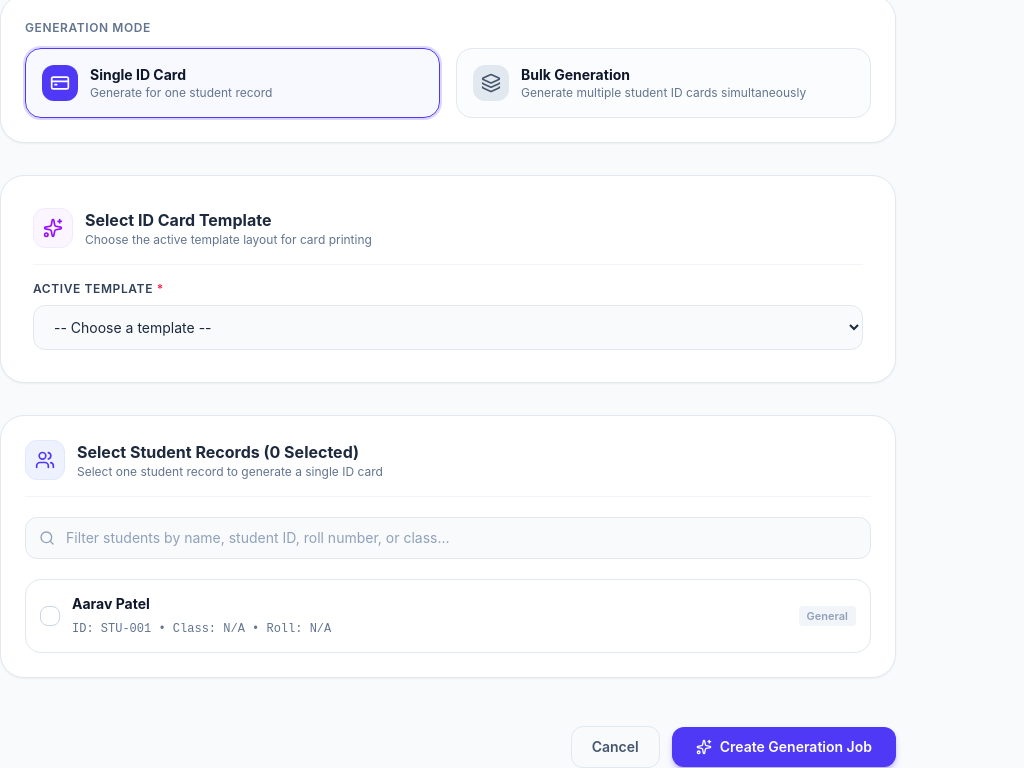
Test: ID CARD GENERATION UI COMPONENTS › 4. GenerationCreateForm validates template and student selection
This screenshot has width=1024, height=768.
Click the button "Create Generation Job".
click(784, 747)  # box [672, 727, 896, 767]
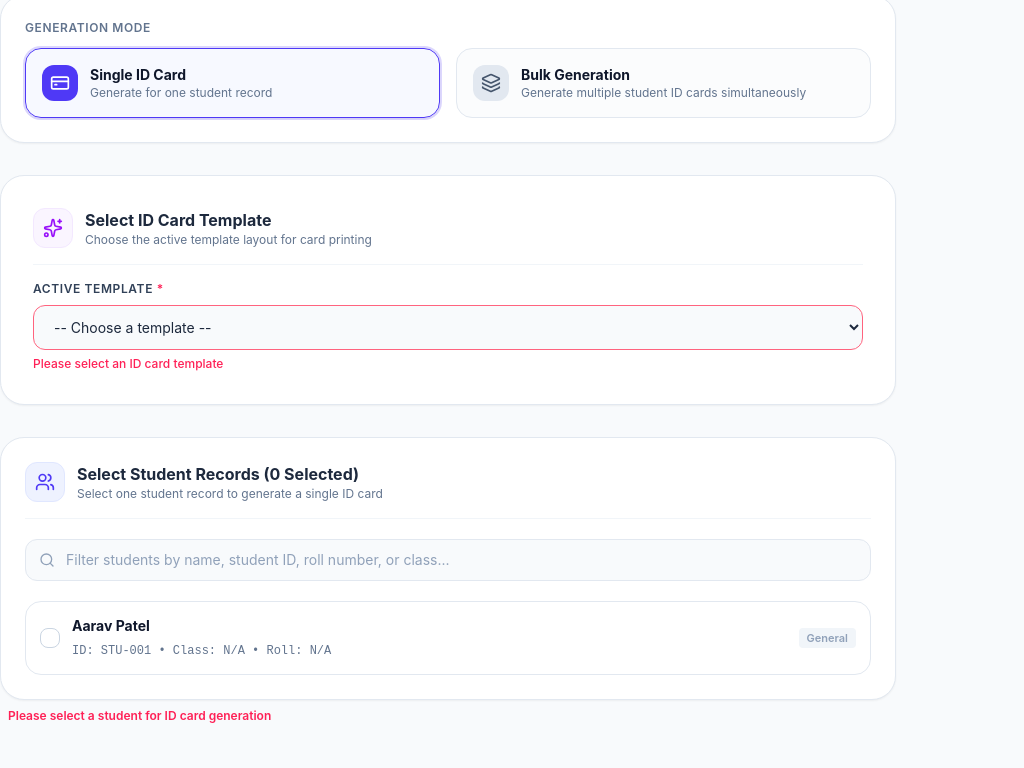
Expected: the text "Please select an ID card template" is shown, [33, 356, 223, 371]
Expected: the text "Please select a student for ID card generation" is shown, [8, 708, 271, 723]
